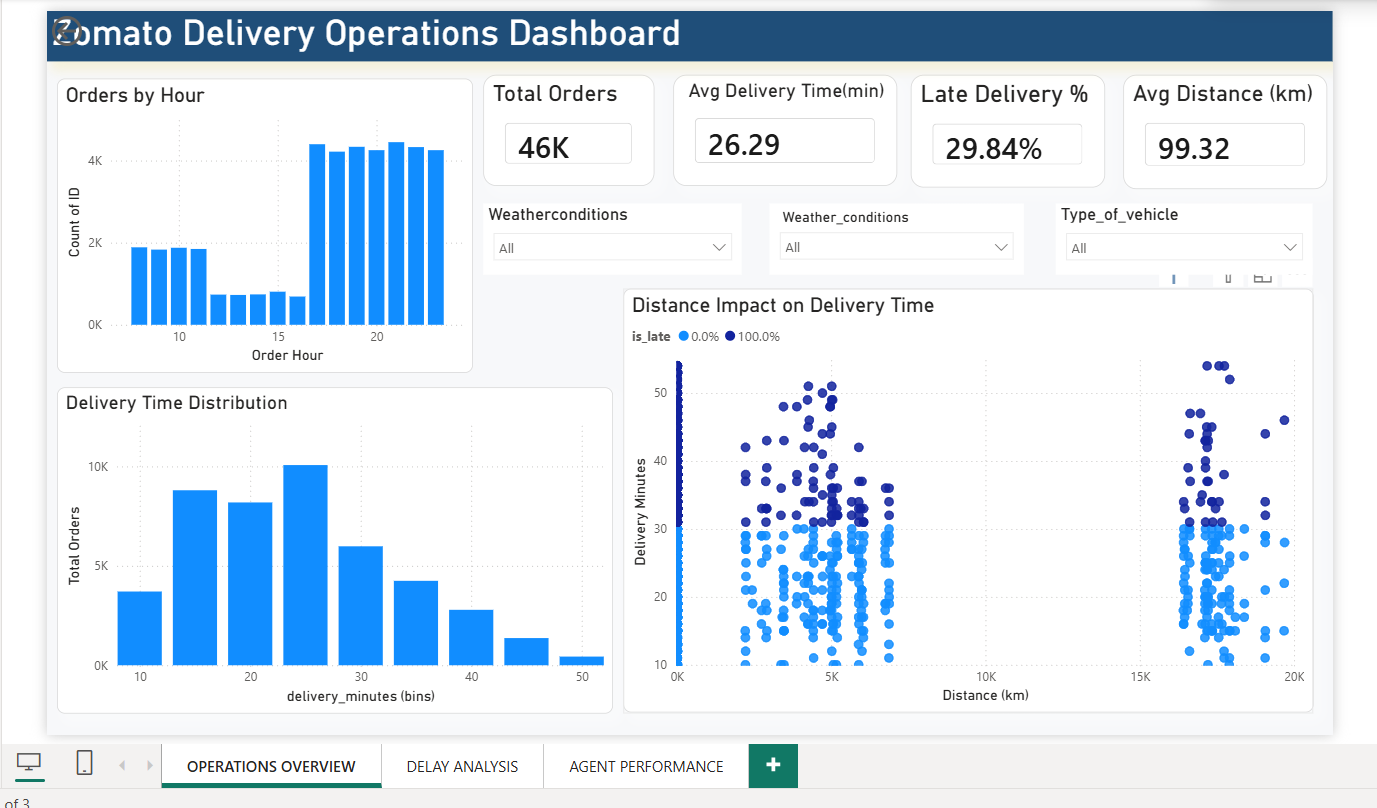

What the dashboard file says about the page in this screenshot:
{"tool":"powerbi","page":{"name":"OPERATIONS OVERVIEW","canvas":[1286,724],"ordinal":0},"visuals":[{"type":"cardVisual","title":"Total Orders","fields":{"Data":["newcsv3.Total Orders"]},"box":[435.7,64.3,171.4,111.4],"z":0},{"type":"cardVisual","title":"Avg Delivery Time(min)","fields":{"Data":["Avg(newcsv3.delivery_minutes)"]},"box":[625.7,64.3,224.3,111.4],"z":1000},{"type":"cardVisual","title":"Late Delivery %","fields":{"Data":["newcsv3.Late %"]},"box":[864.3,64.3,194.3,112.9],"z":2000},{"type":"cardVisual","title":"Avg Distance (km)","fields":{"Data":["Avg(newcsv3.distance_km)"]},"box":[1075.7,64.3,204.3,114.3],"z":3000},{"type":"clusteredColumnChart","title":"Orders by Hour","fields":{"Category":["newcsv3.order_hour"],"Y":["CountNonNull(newcsv3.ID)"]},"box":[10,67.1,415.7,294.3],"z":4000},{"type":"clusteredColumnChart","title":"Delivery Time Distribution","fields":{"Category":["newcsv3.delivery_minutes (bins)"],"Y":["newcsv3.Total Orders"]},"box":[10,376,556,326],"z":5000},{"type":"textbox","title":"Zomato Delivery Operations Dashboard","box":[0,0,1285.7,50],"z":6000},{"type":"scatterChart","title":"Distance Impact on Delivery Time","fields":{"X":["newcsv3.distance_km"],"Y":["newcsv3.delivery_minutes"],"Series":["newcsv3.is_late"]},"box":[576,278,690,424],"z":7000},{"type":"actionButton","box":[0,0,100,40],"z":8000},{"type":"slicer","title":"Weatherconditions","fields":{"Values":["newcsv3.Weather_conditions"]},"box":[435.7,192.9,258.6,71.4],"z":9000},{"type":"slicer","fields":{"Values":["newcsv3.Weather_conditions"]},"box":[722.9,192.9,254.3,71.4],"z":10000},{"type":"slicer","title":"Type_of_vehicle","fields":{"Values":["newcsv3.Type_of_vehicle"]},"box":[1008.6,192.9,257.1,71.4],"z":11000}]}

Visuals, with their boxes on the page's 1286x724 design canvas (x1, y1, x2, y2). These are canvas units, not pixel positions in the 1377x808 screenshot, which may show the page scaled, cropped or inside an application window:
"Total Orders" cardVisual: [436,64,607,176]
"Avg Delivery Time(min)" cardVisual: [626,64,850,176]
"Late Delivery %" cardVisual: [864,64,1059,177]
"Avg Distance (km)" cardVisual: [1076,64,1280,179]
"Orders by Hour" clusteredColumnChart: [10,67,426,361]
"Delivery Time Distribution" clusteredColumnChart: [10,376,566,702]
"Zomato Delivery Operations Dashboard" textbox: [0,0,1286,50]
"Distance Impact on Delivery Time" scatterChart: [576,278,1266,702]
actionButton: [0,0,100,40]
"Weatherconditions" slicer: [436,193,694,264]
slicer - newcsv3.Weather_conditions: [723,193,977,264]
"Type_of_vehicle" slicer: [1009,193,1266,264]
